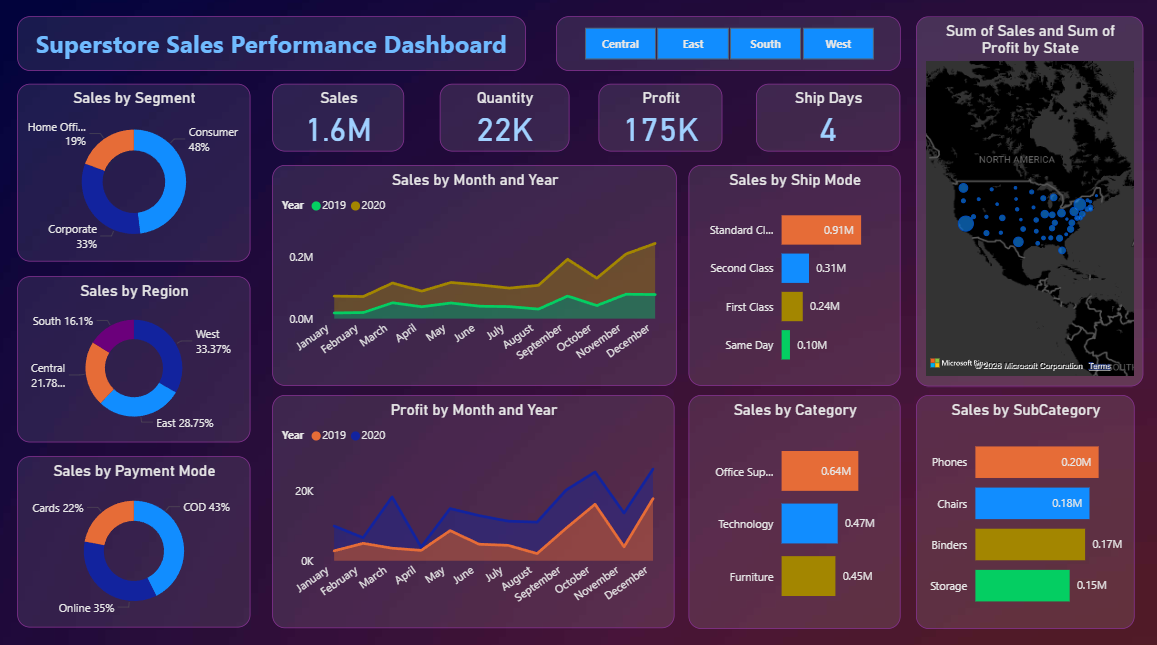

What the dashboard file says about the page in this screenshot:
{"tool":"powerbi","page":{"name":"Page 1","canvas":[1280,720],"ordinal":0},"visuals":[{"type":"clusteredBarChart","title":"Sales by SubCategory","fields":{"Y":["Sum(SuperStore_Sales_Dataset.Sales)"],"Category":["SuperStore_Sales_Dataset.Sub-Category"]},"box":[1009.8,439.1,240.1,257],"z":0},{"type":"clusteredBarChart","title":"Sales by Ship Mode","fields":{"Y":["Sum(SuperStore_Sales_Dataset.Sales)"],"Category":["SuperStore_Sales_Dataset.Ship Mode"]},"box":[760.1,187,232.8,242.5],"z":1000},{"type":"stackedAreaChart","title":"Sales by Month and Year","fields":{"Y":["Sum(SuperStore_Sales_Dataset.Sales)"],"Category":["SuperStore_Sales_Dataset.Order Date.Variation.Date Hierarchy.Month","SuperStore_Sales_Dataset.Order Date.Variation.Date Hierarchy.Day"],"Series":["SuperStore_Sales_Dataset.Order Date.Variation.Date Hierarchy.Year"]},"box":[302.8,187,444,242.5],"z":2000},{"type":"stackedAreaChart","title":"Profit by Month and Year","fields":{"Category":["SuperStore_Sales_Dataset.Order Date.Variation.Date Hierarchy.Month","SuperStore_Sales_Dataset.Order Date.Variation.Date Hierarchy.Day"],"Series":["SuperStore_Sales_Dataset.Order Date.Variation.Date Hierarchy.Year"],"Y":["Sum(SuperStore_Sales_Dataset.Profit)"]},"box":[302.8,439.1,441.6,255.8],"z":3000},{"type":"map","fields":{"Category":["SuperStore_Sales_Dataset.State"],"Size":["Sum(SuperStore_Sales_Dataset.Sales)"]},"box":[1009.8,22.9,249.7,406.6],"z":4000},{"type":"donutChart","title":"Sales by Segment","fields":{"Category":["SuperStore_Sales_Dataset.Segment"],"Y":["Sum(SuperStore_Sales_Dataset.Sales)"]},"box":[22.9,97.7,255.8,195.4],"z":5000},{"type":"donutChart","title":"Sales by Payment Mode","fields":{"Category":["SuperStore_Sales_Dataset.Payment Mode"],"Y":["Sum(SuperStore_Sales_Dataset.Sales)"]},"box":[22.9,506.7,255.8,188.2],"z":6000},{"type":"slicer","fields":{"Values":["SuperStore_Sales_Dataset.Region"]},"box":[614.8,23.3,378.7,60.4],"z":7000},{"type":"barChart","title":"Sales by Category","fields":{"Category":["SuperStore_Sales_Dataset.Category"],"Y":["Sum(SuperStore_Sales_Dataset.Sales)"]},"box":[760.1,439.1,232.8,257],"z":8000},{"type":"card","title":"Sales","fields":{"Values":["Sum(SuperStore_Sales_Dataset.Sales)"]},"box":[302.8,97.7,144.8,74.8],"z":9000},{"type":"card","title":"Quantity","fields":{"Values":["Sum(SuperStore_Sales_Dataset.Quantity)"]},"box":[487.4,97.7,142.4,74.8],"z":10000},{"type":"card","title":"Profit","fields":{"Values":["Sum(SuperStore_Sales_Dataset.Profit)"]},"box":[661.1,97.7,136.3,74.8],"z":11000},{"type":"card","title":"Ship Days","fields":{"Values":["Avg(SuperStore_Sales_Dataset.Avg_Delivery_Time)"]},"box":[834.9,97.7,158,74.8],"z":12000},{"type":"donutChart","title":"Sales by Region","fields":{"Y":["Sum(SuperStore_Sales_Dataset.Sales)"],"Category":["SuperStore_Sales_Dataset.Region"]},"box":[22.9,308.8,255.8,182.2],"z":13000},{"type":"textbox","box":[23.3,23.3,558.5,60.4],"z":14000}]}

Visuals, with their boxes in screenshot pixels (x1, y1, x2, y2), scaled from the page's 1280x720 canvas onto the 1157x645 screenshot:
"Sales by SubCategory" clusteredBarChart: 913/393/1130/624
"Sales by Ship Mode" clusteredBarChart: 687/168/897/385
"Sales by Month and Year" stackedAreaChart: 274/168/675/385
"Profit by Month and Year" stackedAreaChart: 274/393/673/623
map - SuperStore_Sales_Dataset.State x Sum(SuperStore_Sales_Dataset.Sales): 913/21/1138/385
"Sales by Segment" donutChart: 21/88/252/263
"Sales by Payment Mode" donutChart: 21/454/252/623
slicer - SuperStore_Sales_Dataset.Region: 556/21/898/75
"Sales by Category" barChart: 687/393/897/624
"Sales" card: 274/88/405/155
"Quantity" card: 441/88/569/155
"Profit" card: 598/88/721/155
"Ship Days" card: 755/88/897/155
"Sales by Region" donutChart: 21/277/252/440
textbox: 21/21/526/75
